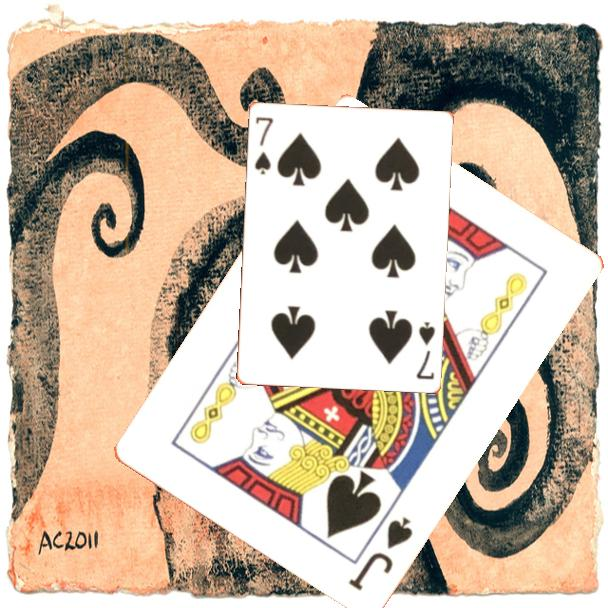s07: (251, 113, 276, 177), (412, 318, 437, 382)
s11: (345, 514, 417, 595)
